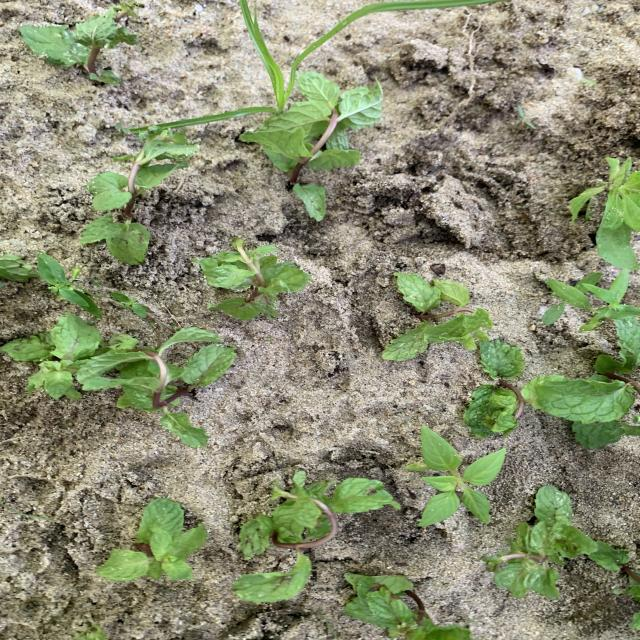crop: (5, 315, 235, 447), (237, 471, 399, 601), (243, 72, 382, 220), (80, 128, 197, 263), (483, 486, 607, 598), (194, 238, 311, 319), (383, 274, 492, 359), (96, 499, 206, 579), (20, 11, 134, 83), (345, 575, 472, 639), (536, 375, 640, 450), (463, 339, 541, 437), (593, 545, 639, 601), (1, 254, 35, 287), (75, 624, 107, 639)
weed: (159, 0, 500, 128), (405, 426, 505, 527), (569, 157, 640, 270), (541, 269, 640, 331), (38, 254, 101, 316), (110, 292, 149, 316), (317, 610, 339, 639), (112, 1, 143, 19), (517, 107, 535, 128), (115, 122, 128, 138)
